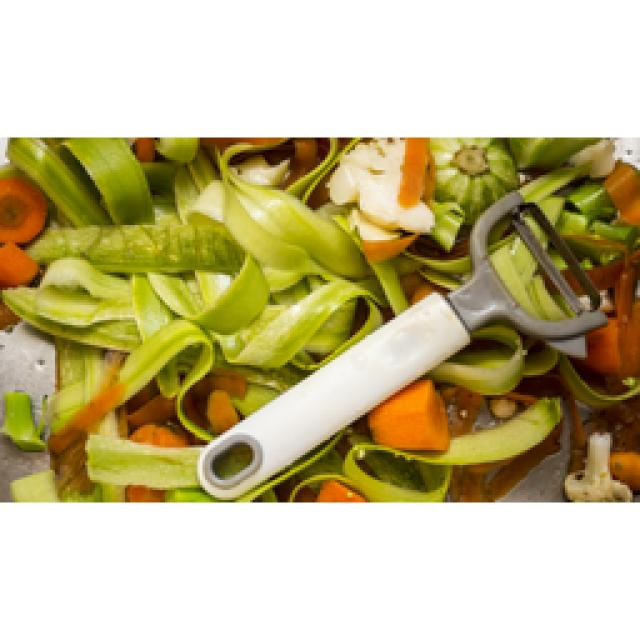food_waste: (0, 138, 638, 500)
